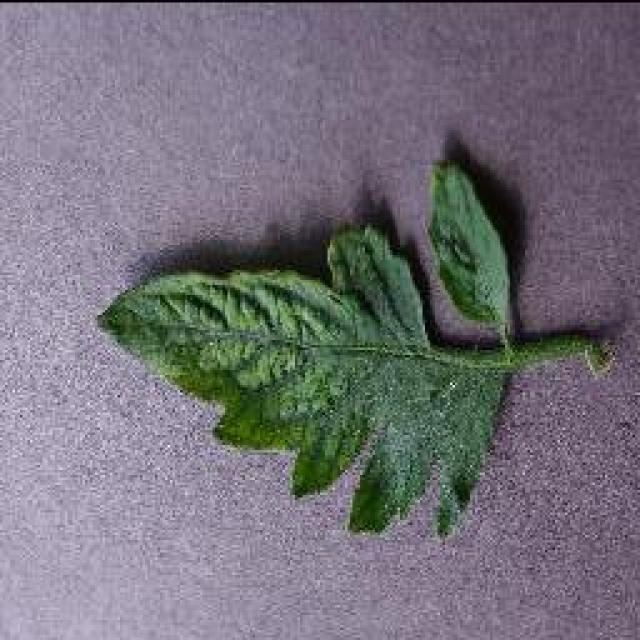Tomato___Tomato_mosaic_virus: (102, 165, 602, 530)
